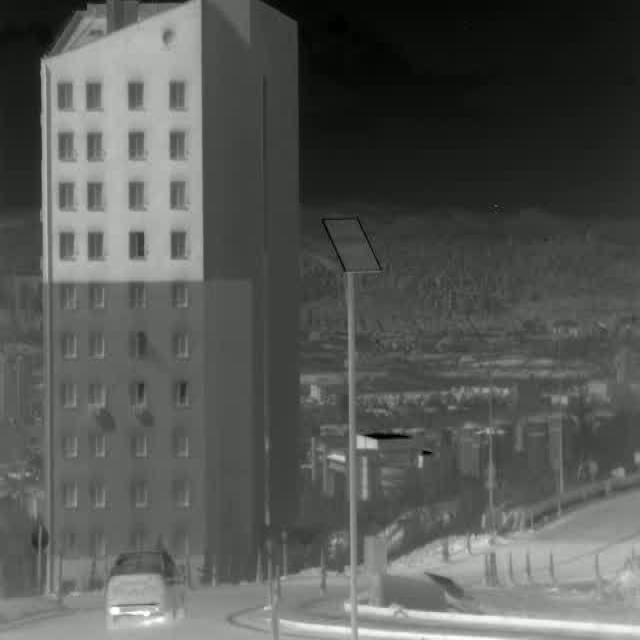Car: (103, 546, 188, 635)
